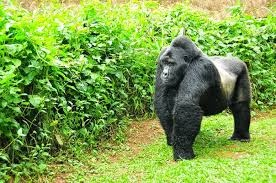gorilla: (152, 33, 254, 162)
